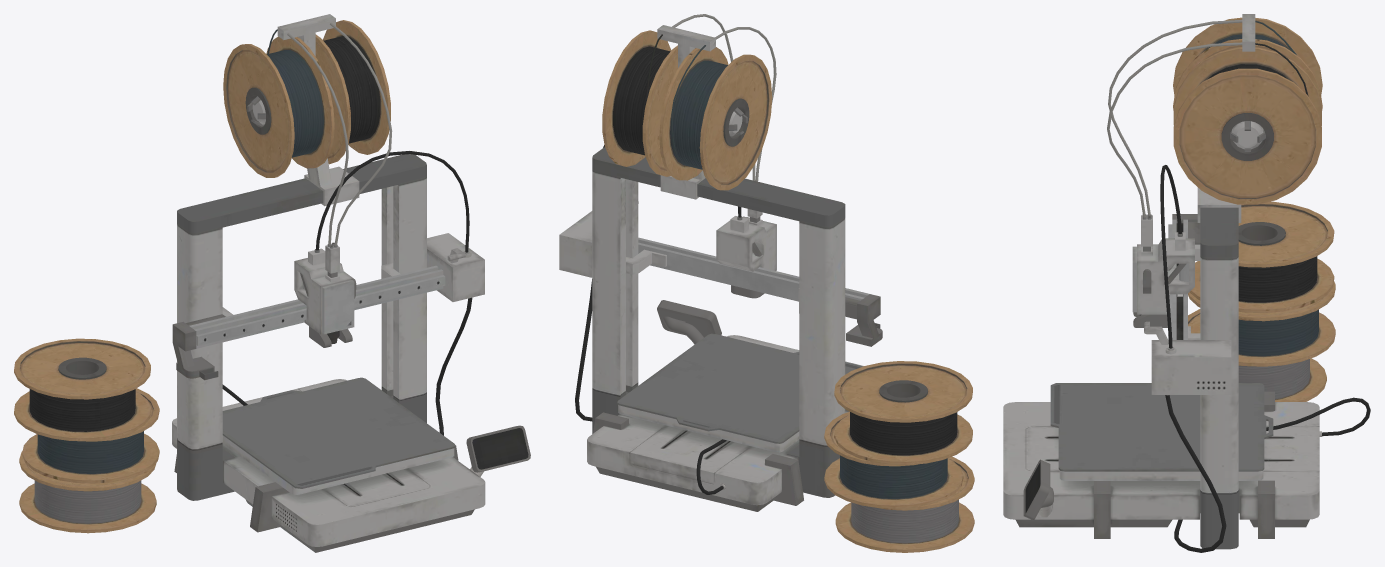
Rendered from printer.glb.
3 views of the same model, side by side, from view 1: azimuth 30°, elevation 25°; view 2: azimuth 150°, elevation 25°; view 3: azimuth 270°, elevation 25° (orthographic). The views are drawn at different scales.
Parts seen in each view (by area): view 1: 3D_Printer, Filament_Spool_Stack, Filament_Spools; view 2: 3D_Printer, Filament_Spool_Stack, Filament_Spools; view 3: 3D_Printer, Filament_Spools, Filament_Spool_Stack.
Part boxes in pixels (box(x1,y1,x2,y2)): 3D_Printer: box(172, 14, 530, 552); Filament_Spool_Stack: box(14, 338, 159, 533); Filament_Spools: box(223, 20, 390, 177); 3D_Printer: box(559, 14, 882, 511); Filament_Spool_Stack: box(824, 361, 974, 552); Filament_Spools: box(602, 30, 772, 190); 3D_Printer: box(1003, 14, 1370, 552); Filament_Spools: box(1173, 17, 1322, 204); Filament_Spool_Stack: box(1188, 201, 1335, 401).
Size of the model in its own units: 0.704 by 0.7013 by 0.4993.
Materials: 1 (1 with a texture image).
